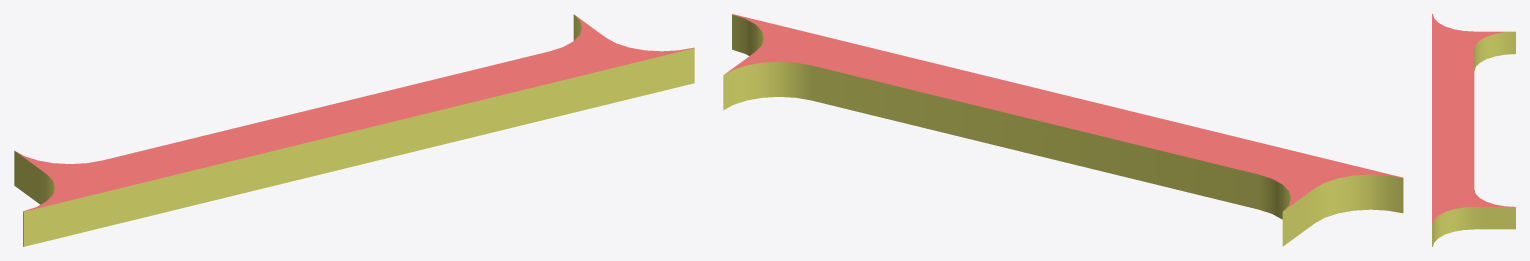
File: mineshaft-back.fbx
The picture shows the model from 3 angles, left to right: view 1: azimuth 30°, elevation 25°; view 2: azimuth 150°, elevation 25°; view 3: azimuth 270°, elevation 25°; orthographic projection. The views are drawn at different scales.
Visible parts, largest first — view 1: SketchUp.001, SketchUp; view 2: SketchUp.001, SketchUp; view 3: SketchUp, SketchUp.001.
Boxes of the visible parts, x1,y1,x2,y2 form: SketchUp.001: (14,14,694,246); SketchUp: (16,14,693,211); SketchUp.001: (723,14,1403,246); SketchUp: (724,14,1403,210); SketchUp: (1432,14,1514,224); SketchUp.001: (1432,31,1515,246).
Bounding box in the file's own units: 600 × 30 × 101.
